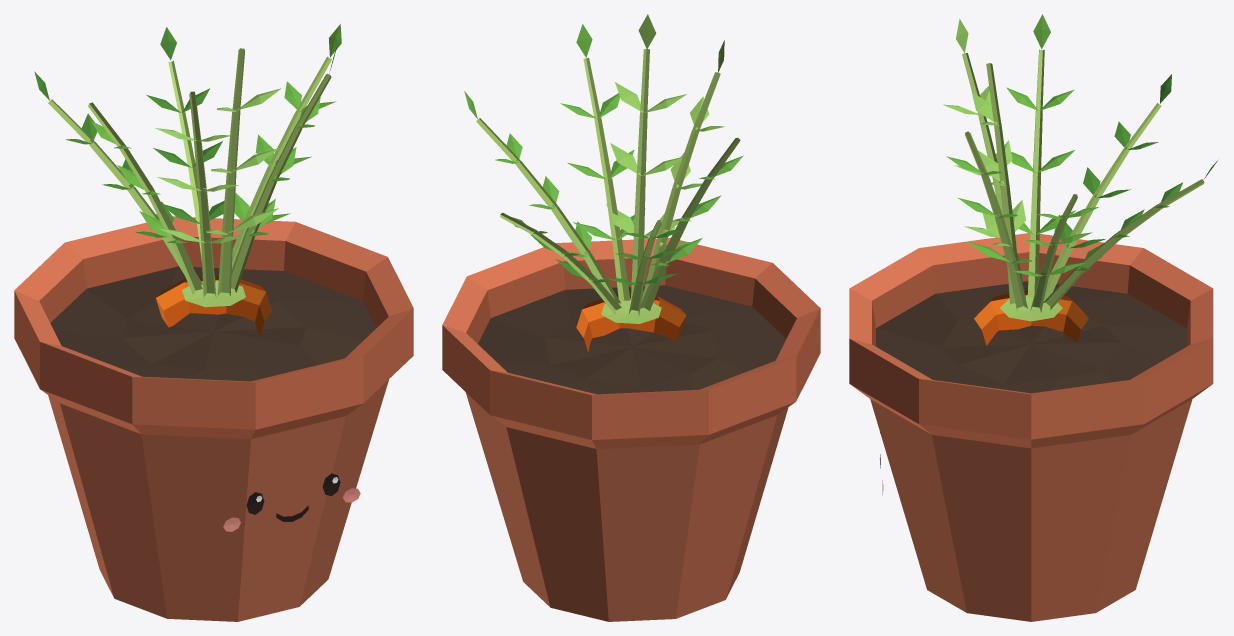
File: carrot_4.glb
3 renders of one model, left to right at view 1: azimuth 30°, elevation 25°; view 2: azimuth 150°, elevation 25°; view 3: azimuth 270°, elevation 25°, orthographic. The views are drawn at different scales.
Parts seen in each view (by area): view 1: Carrot_Stage4_Harvest; view 2: Carrot_Stage4_Harvest; view 3: Carrot_Stage4_Harvest.
Boxes of the visible parts, x1,y1,x2,y2 form: Carrot_Stage4_Harvest: [14, 24, 413, 621]; Carrot_Stage4_Harvest: [442, 14, 820, 621]; Carrot_Stage4_Harvest: [849, 14, 1217, 621].
Size of the model in its own units: 1.92 by 3.04 by 1.86.
